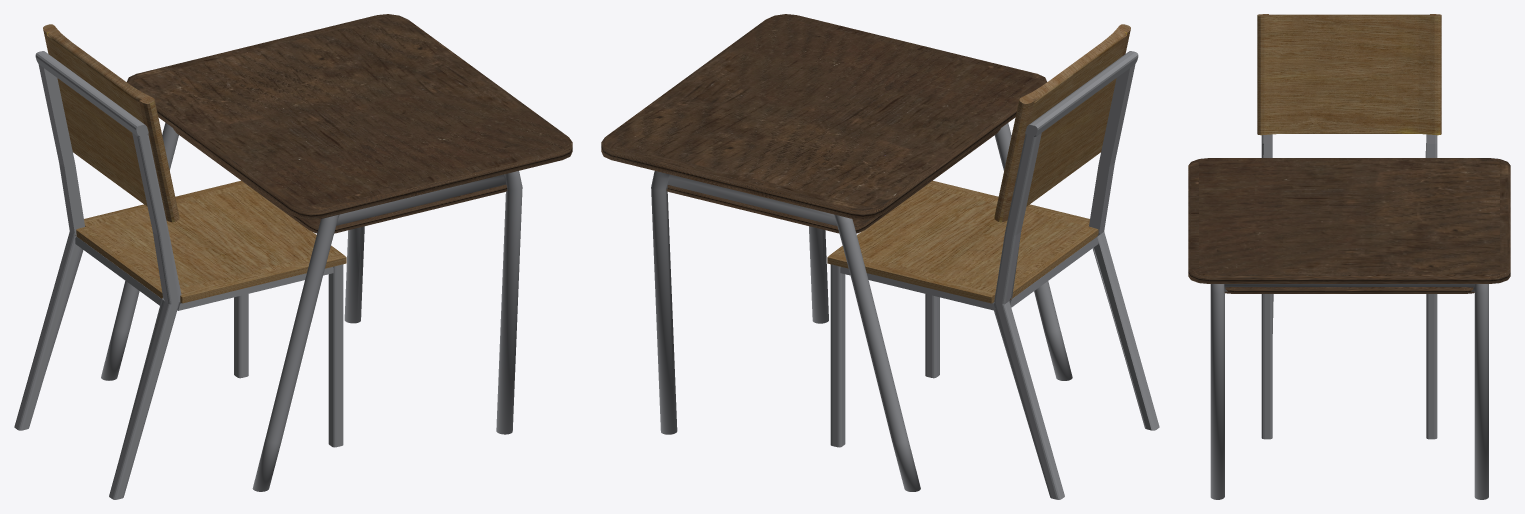
The model's file is BENCH.fbx.
3 views of the same model, side by side, from view 1: azimuth 30°, elevation 25°; view 2: azimuth 150°, elevation 25°; view 3: azimuth 270°, elevation 25° (orthographic). The views are drawn at different scales.
Parts seen in each view (by area): view 1: Cube, chair skeleton, plat, Circle.001, dos, Circle; view 2: Cube, chair skeleton, plat, Circle, dos, Circle.001; view 3: Cube, dos, chair skeleton, Circle, Circle.001.
Part boxes in pixels (x1=…): Cube: x1=127, y1=14, x2=572, y2=233; chair skeleton: x1=14, y1=51, x2=343, y2=499; plat: x1=75, y1=180, x2=346, y2=303; Circle.001: x1=252, y1=171, x2=522, y2=491; dos: x1=43, y1=24, x2=179, y2=222; Circle: x1=101, y1=122, x2=364, y2=380; Cube: x1=601, y1=14, x2=1046, y2=233; chair skeleton: x1=830, y1=51, x2=1159, y2=499; plat: x1=827, y1=180, x2=1098, y2=303; Circle: x1=651, y1=171, x2=920, y2=491; dos: x1=994, y1=24, x2=1130, y2=222; Circle.001: x1=809, y1=123, x2=1072, y2=380; Cube: x1=1188, y1=158, x2=1510, y2=293; dos: x1=1257, y1=14, x2=1441, y2=135; chair skeleton: x1=1261, y1=134, x2=1437, y2=439; Circle: x1=1224, y1=284, x2=1488, y2=499; Circle.001: x1=1210, y1=284, x2=1224, y2=499.
Size of the model in its own units: 486 by 431 by 367.
